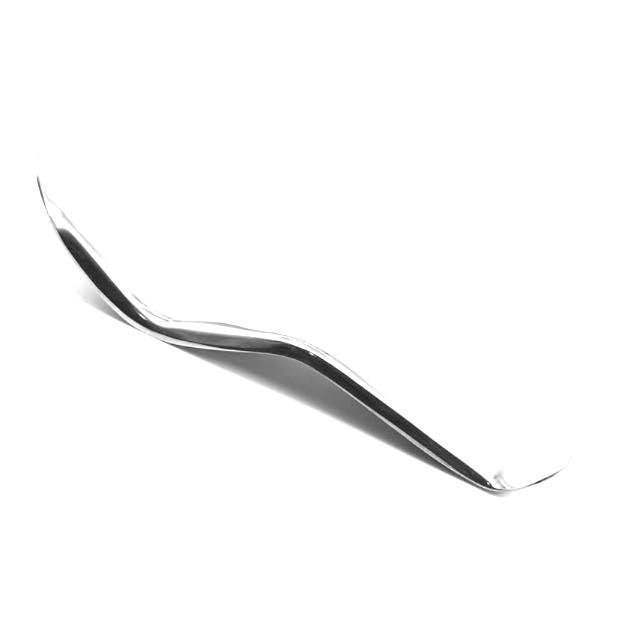separador: (36, 153, 579, 492)
